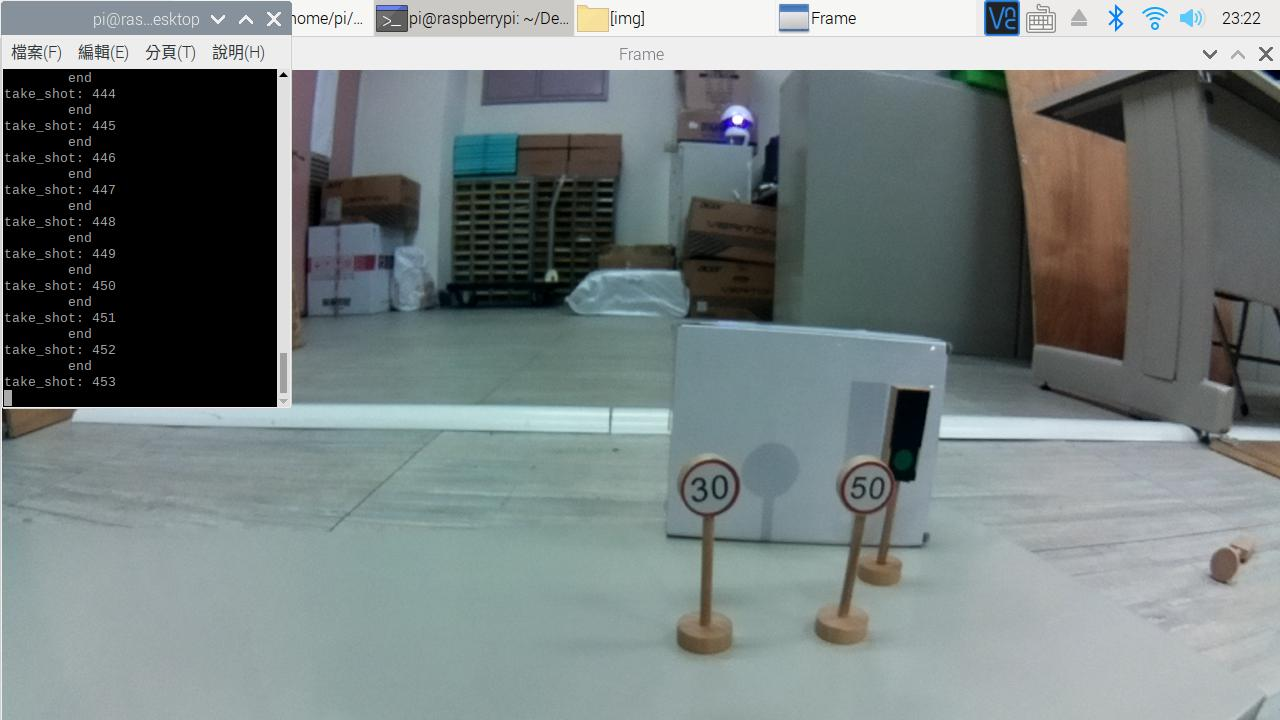Green: (884, 379, 935, 487)
Speed30: (665, 453, 742, 525)
Speed50: (826, 459, 894, 521)
